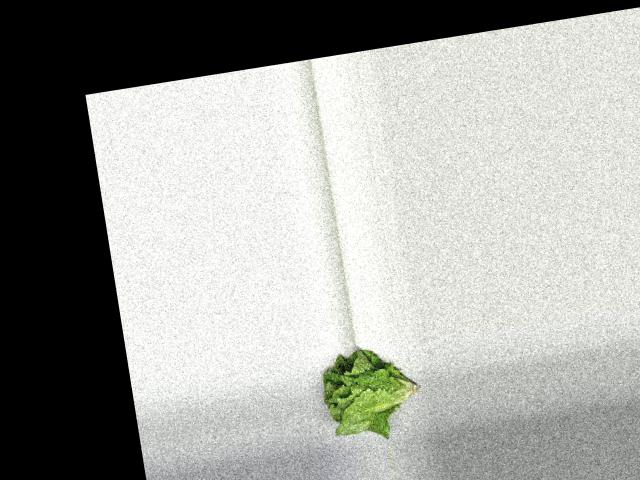lettuce: (316, 340, 428, 447)
